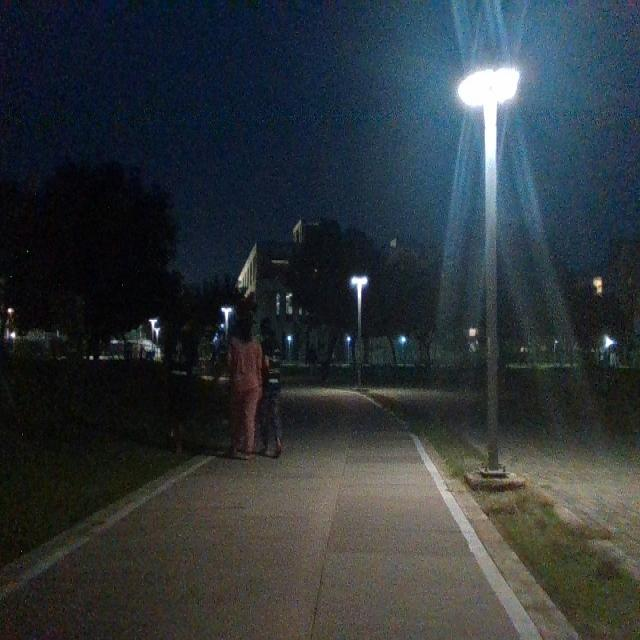lane: (1, 391, 521, 640)
